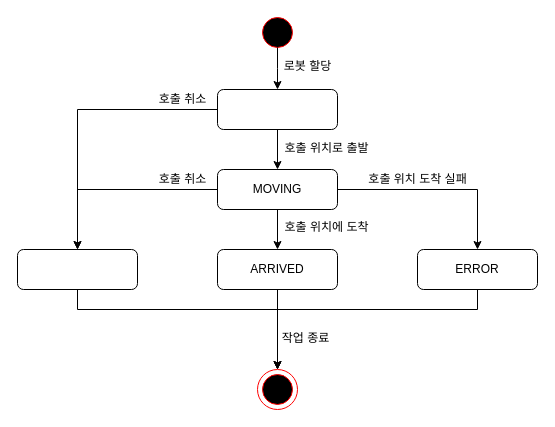
The diagram is 555 pixels wide and 427 high, and some of its shapes have lost their labels. The centre of each missing label's shape, as x and y in pixels:
"ASSIGNED" goes at pixel 277 109.
"CANCLED" goes at pixel 77 269.
